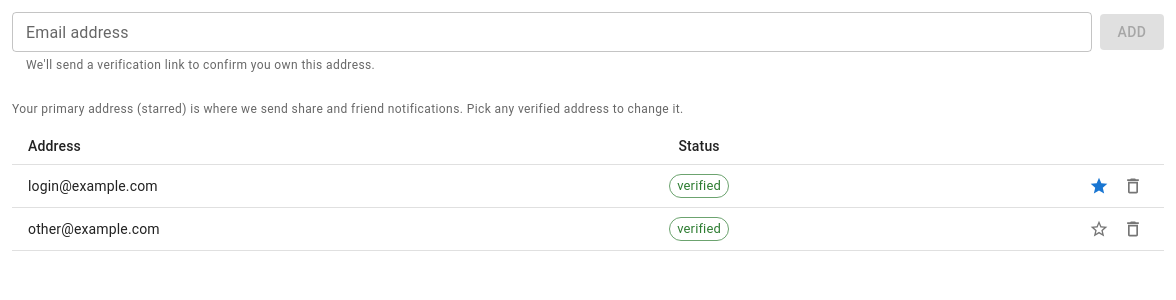
Test: EmailsSection › sets a verified address as primary and reflects the returned list
The image size is (1176, 300).
Expected: the text "other@example.com" is shown, [12, 207, 549, 250]
Click the button named "set other@example.com as primary" at (1099, 229), box [1084, 214, 1114, 244]
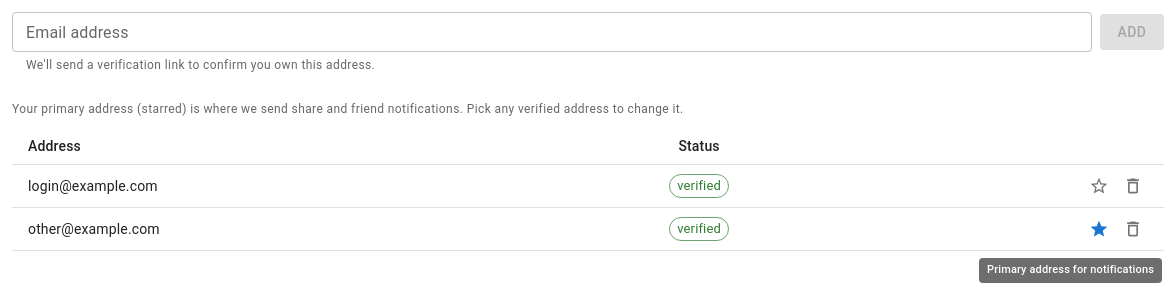
Expected: the button named "set login@example.com as primary" is shown, [1084, 171, 1114, 201]
